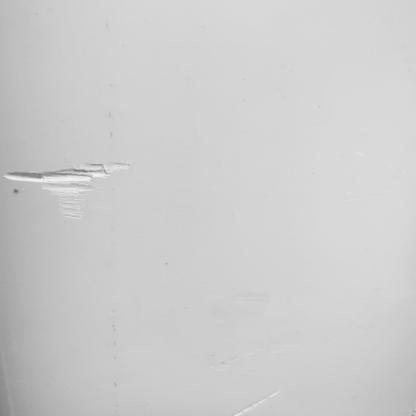sunshang: (4, 160, 133, 225), (222, 389, 282, 416)
